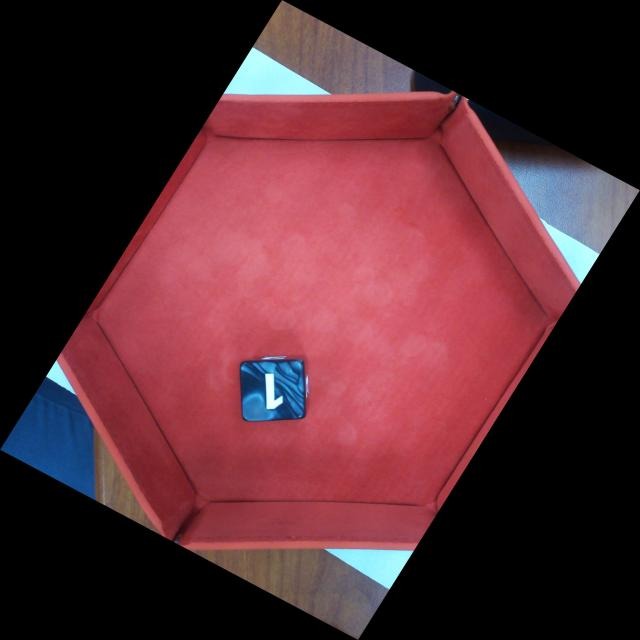dice: (245, 360, 302, 419)
